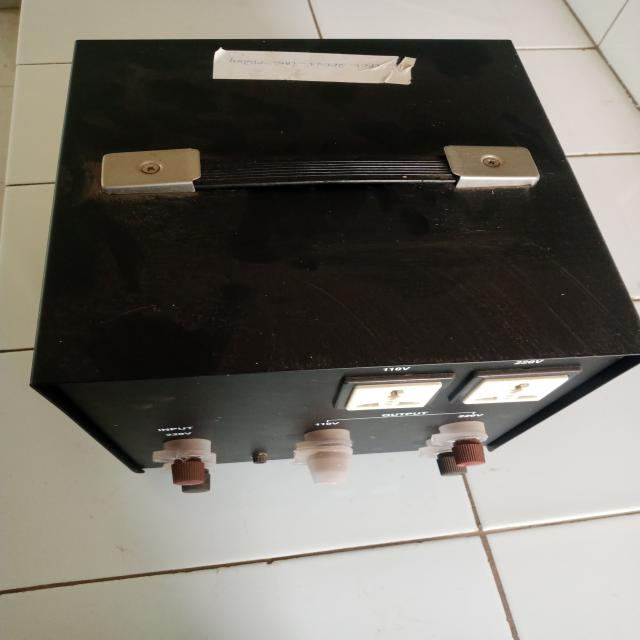AC POWER Stabilizer: (22, 35, 637, 508)
